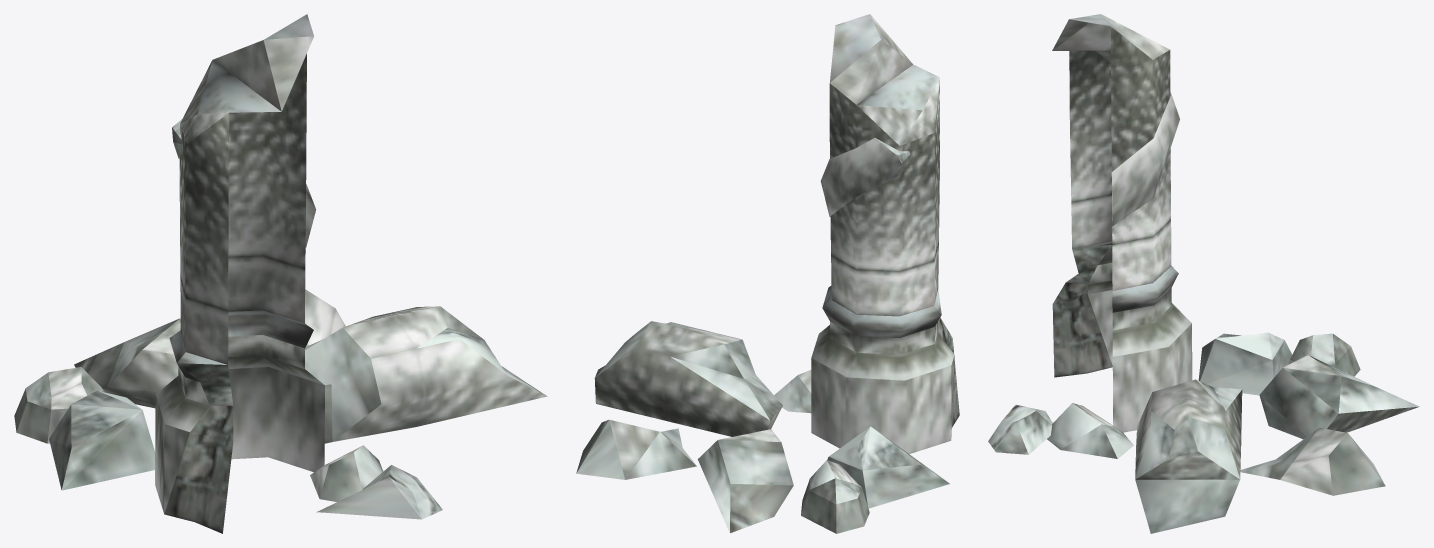
Rendered from S_Build_Snowland101_1.FBX.
3 renders of one model, left to right at view 1: azimuth 30°, elevation 25°; view 2: azimuth 150°, elevation 25°; view 3: azimuth 270°, elevation 25°, orthographic. The views are drawn at different scales.
Visible parts, largest first — view 1: S_Build_Snowland101_1; view 2: S_Build_Snowland101_1; view 3: S_Build_Snowland101_1.
Boxes of the visible parts, x1,y1,x2,y2 form: S_Build_Snowland101_1: [14, 14, 547, 533]; S_Build_Snowland101_1: [576, 14, 959, 533]; S_Build_Snowland101_1: [988, 14, 1419, 533].
Size of the model in its own units: 767 by 734 by 769.
